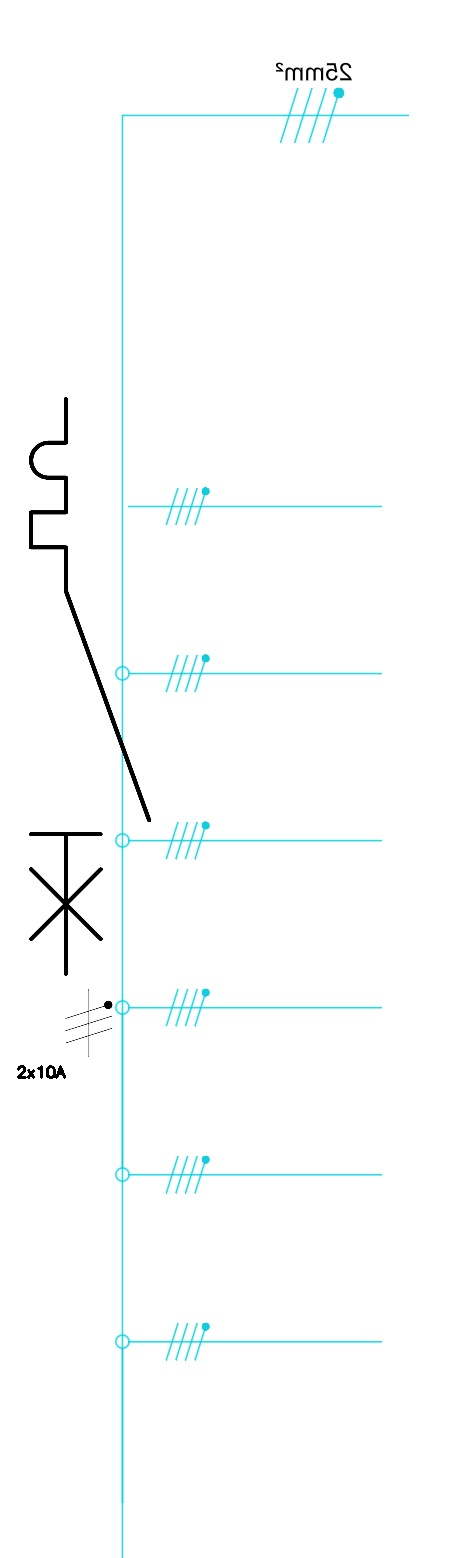interruptor_termomagnetico: (16, 384, 164, 989)
